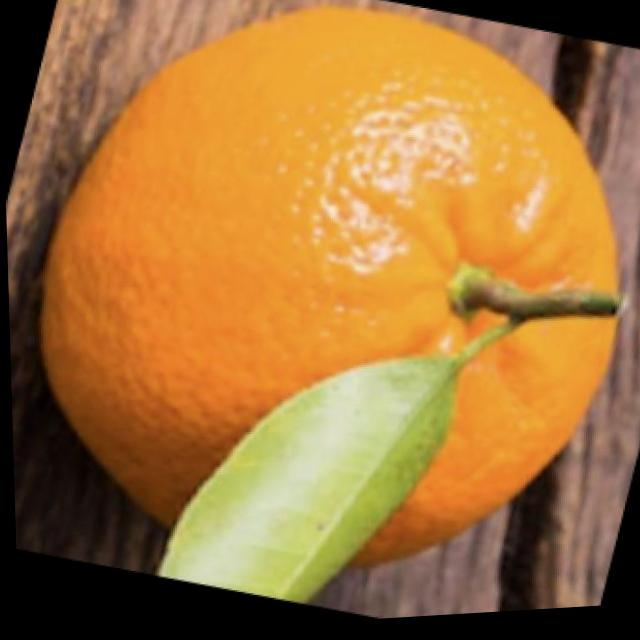Orange: (31, 0, 627, 600)
